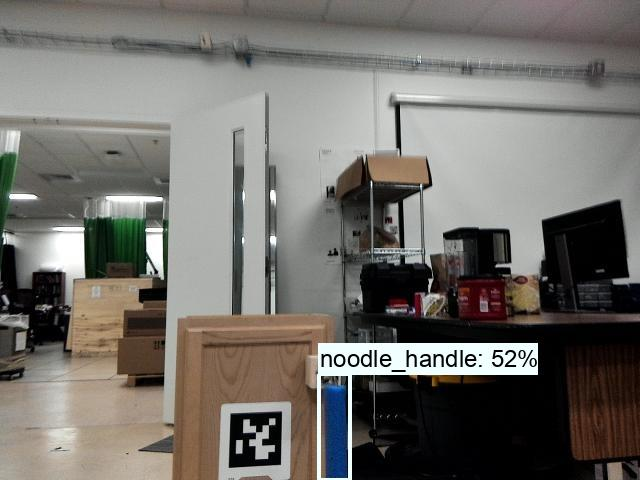noodle_handle: (320, 379, 350, 480)
